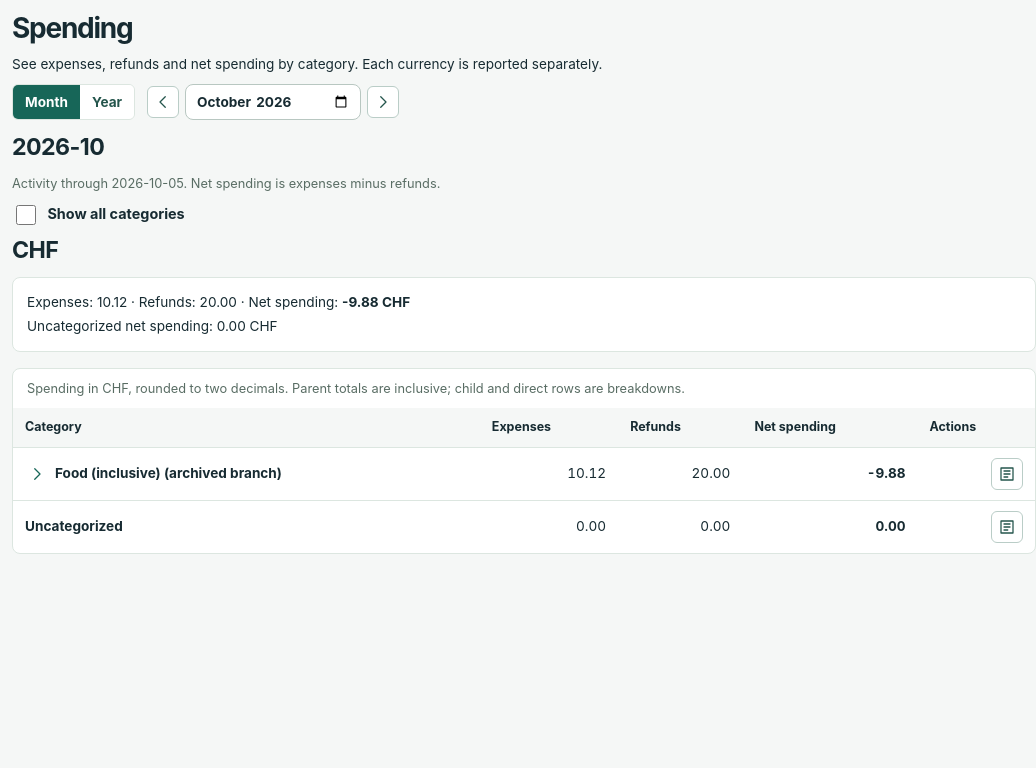
Test: shows compact category spending with rounded net totals and no chart
Check: the text "Food (inclusive) (archived branch)" is shown, box [55,463,282,484]
Check: the column headings read "Category", "Expenses", "Refunds", "Net spending", "Actions", in this order, box [13,408,480,447]; [480,408,618,447]; [618,408,742,447]; [742,408,918,447]; [918,408,1035,447]
Click the button named "Expand Food".
click(37, 474)  # box [25,462,49,486]
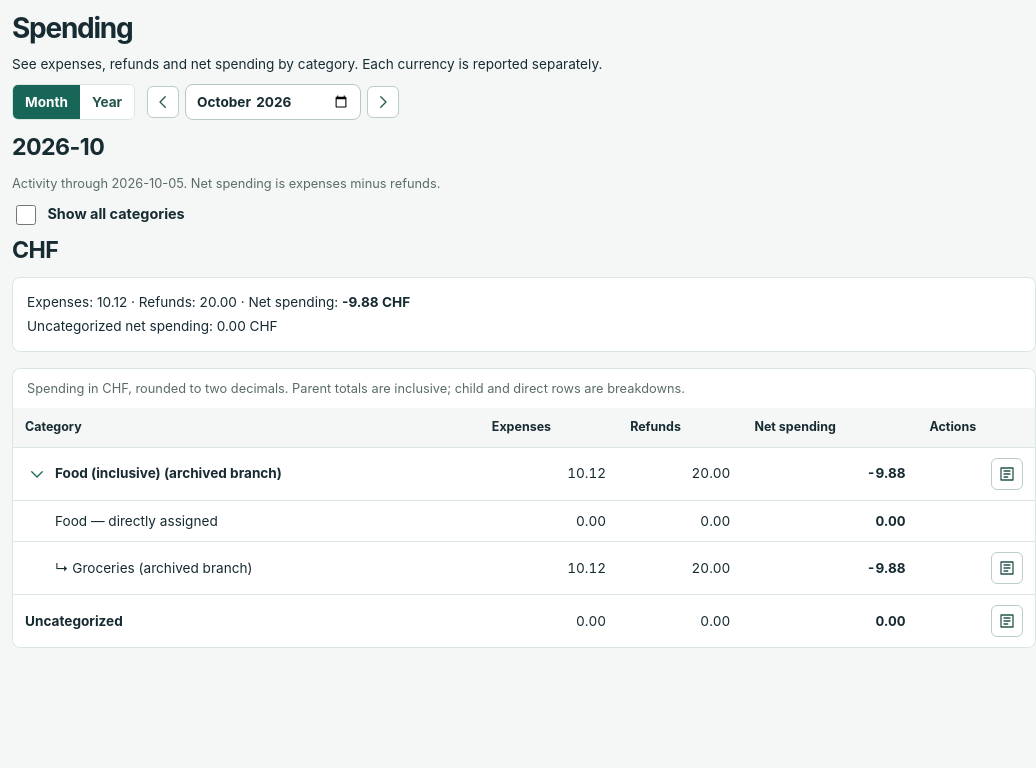
Check: the text "↳ Groceries (archived branch)" is shown, box [55,558,252,578]
Check: the text "-9.88" is shown 2 times, box [867,465,906,481]; [867,560,906,576]
Check: the button named "Supporting activity" in the row of "↳ Groceries" is shown, box [991,552,1023,584]
Click the checkbox labelled "Show all categories".
click(26, 215)  # box [16,205,36,225]
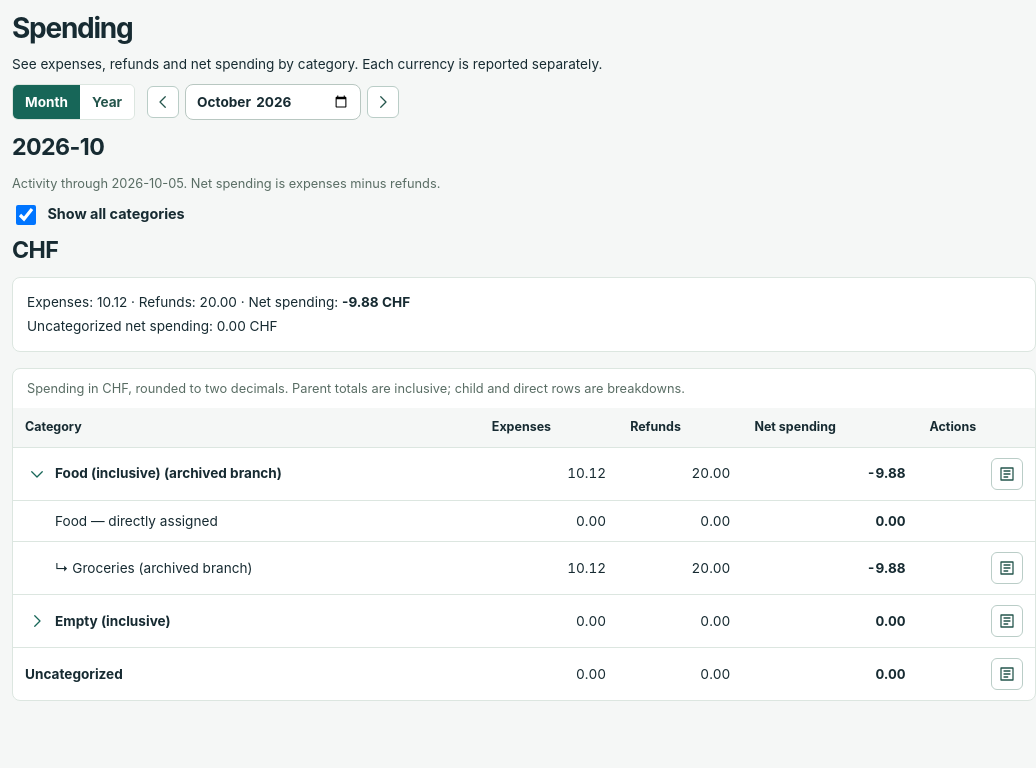
Check: the text "Empty (inclusive)" is shown, box [55,611,171,631]
